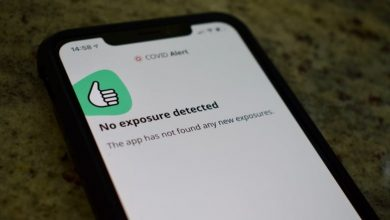Safe: (67, 66, 243, 135)
